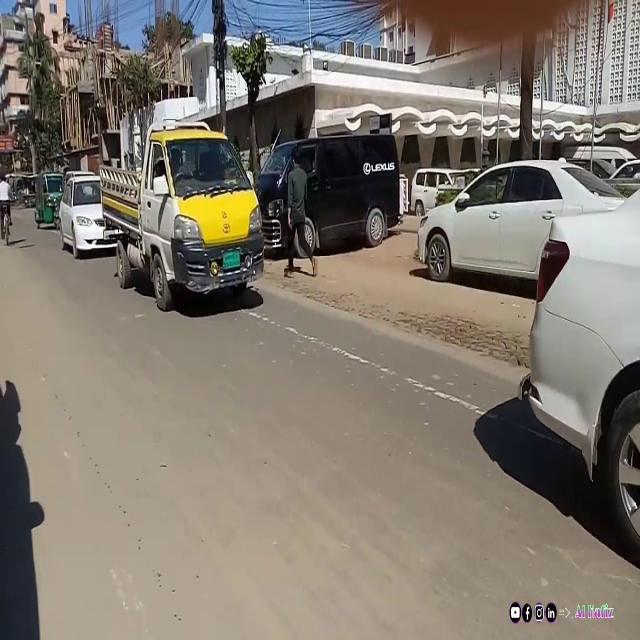black: (249, 141, 402, 255)
white: (422, 164, 624, 286), (57, 175, 126, 253), (410, 165, 465, 215)
